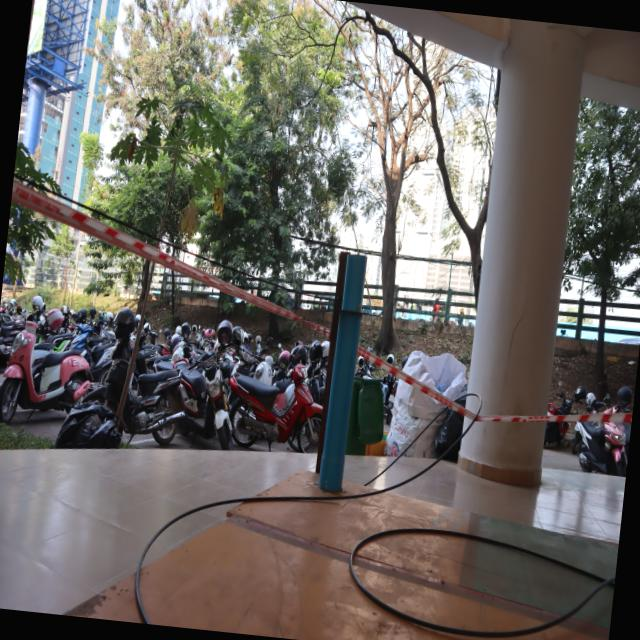pole: (316, 242, 383, 368)
